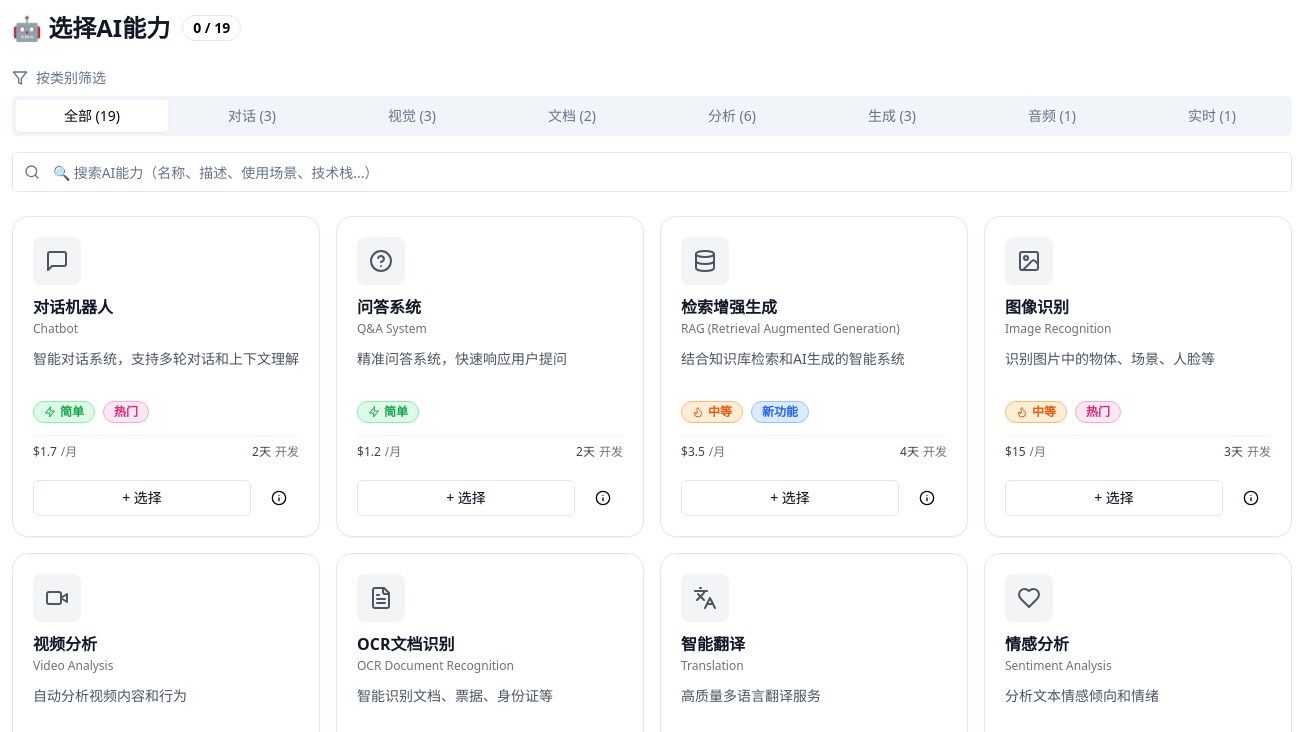
AICapabilityPicker › 空状态测试 › 当搜索无结果时，应该显示空状态
Type "xyz不存在的关键词xyz" into the field with placeholder "🔍 搜索AI能力（名称、描述、使用场景、技术栈...）" at (652, 172), box x1=12 y1=152 x2=1292 y2=192
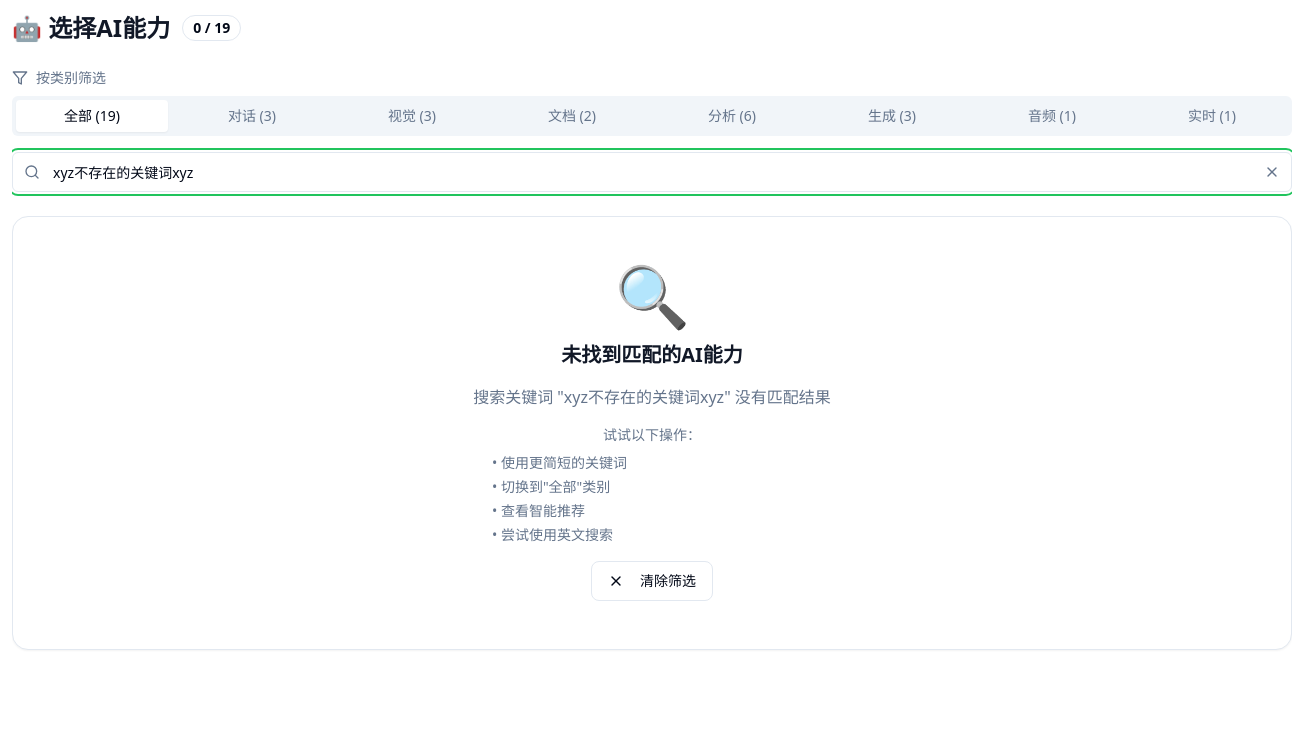
Expected: the heading "未找到匹配的AI能力" is shown, x1=561 y1=341 x2=743 y2=368
